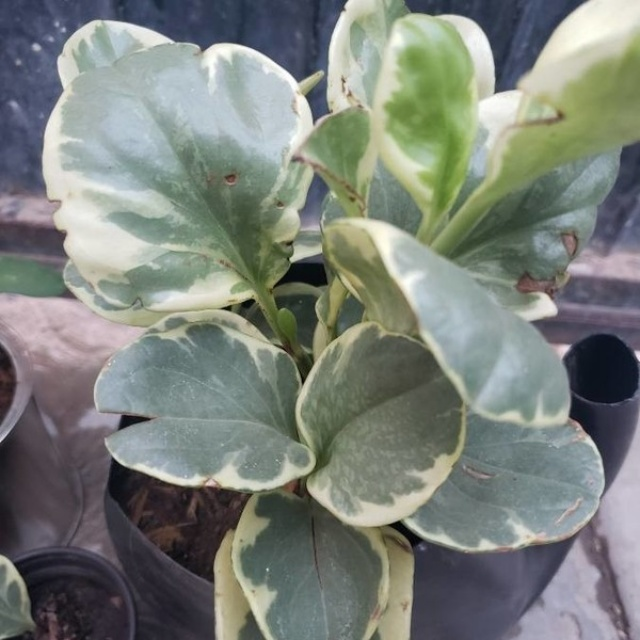obstacle: (53, 47, 542, 614)
